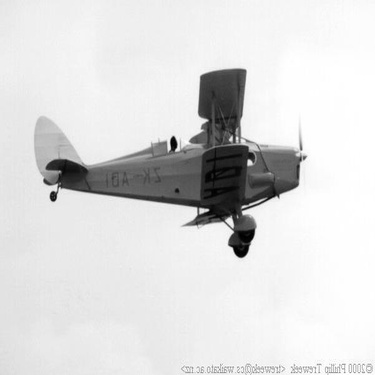airplane: (16, 52, 327, 269)
